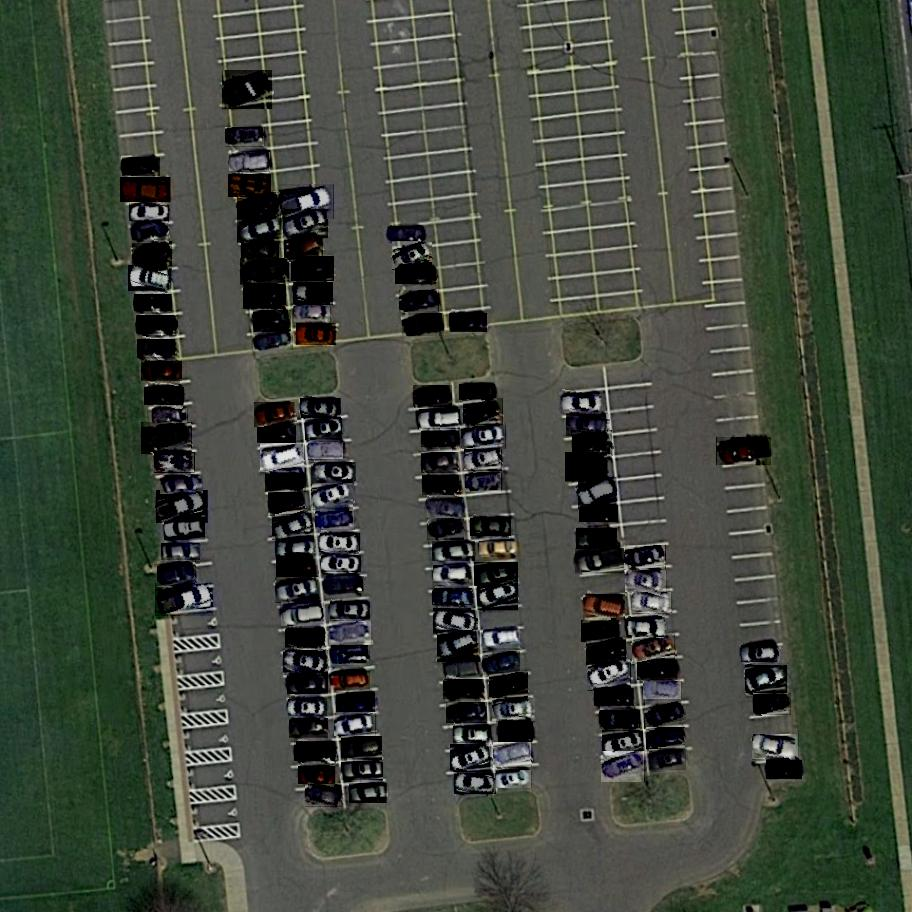small-vehicle: (155, 583, 215, 618), (223, 70, 273, 110), (280, 184, 334, 220), (156, 491, 208, 525), (141, 422, 194, 455), (717, 437, 772, 466), (587, 659, 632, 692), (437, 631, 482, 663), (284, 209, 330, 240), (240, 258, 290, 286), (237, 213, 282, 244), (602, 751, 647, 782), (260, 444, 305, 474), (745, 666, 790, 696), (463, 398, 505, 430), (477, 581, 520, 612), (120, 177, 171, 203), (566, 453, 610, 483), (753, 735, 800, 763), (272, 512, 314, 543), (450, 744, 493, 774), (632, 635, 676, 664), (575, 549, 624, 575), (578, 478, 619, 509), (644, 700, 687, 729), (312, 482, 354, 511), (586, 638, 628, 667), (276, 577, 321, 604), (434, 608, 479, 635), (276, 554, 319, 582), (237, 193, 280, 221), (392, 242, 432, 272), (572, 431, 612, 461), (283, 651, 329, 677), (461, 423, 507, 449), (284, 233, 325, 262), (132, 241, 173, 270), (243, 284, 287, 311), (602, 731, 644, 759), (292, 255, 335, 282), (129, 265, 173, 291), (489, 672, 528, 701), (582, 595, 625, 621), (280, 602, 326, 626), (474, 562, 520, 586), (624, 546, 668, 571), (157, 562, 199, 588), (255, 402, 297, 428), (494, 742, 534, 769), (268, 489, 306, 517), (330, 622, 374, 646), (265, 467, 307, 492), (334, 713, 377, 737), (402, 313, 445, 337), (341, 736, 382, 761), (493, 699, 535, 723), (130, 219, 170, 244), (311, 462, 356, 484), (228, 174, 271, 197), (446, 702, 487, 726), (647, 727, 686, 752), (482, 652, 521, 677), (566, 415, 610, 437), (399, 290, 441, 313), (413, 385, 453, 409), (305, 785, 343, 810), (575, 528, 618, 550), (330, 667, 371, 690), (254, 329, 295, 352), (293, 282, 334, 305), (626, 570, 667, 593), (632, 592, 673, 615), (432, 541, 476, 562), (444, 679, 484, 702), (154, 452, 195, 474), (253, 310, 292, 333), (753, 693, 792, 716), (650, 749, 689, 772), (464, 449, 503, 472), (455, 773, 497, 794), (160, 475, 204, 495), (582, 620, 622, 642), (306, 418, 344, 441), (138, 340, 179, 361), (296, 324, 337, 345), (241, 240, 280, 262), (294, 741, 336, 761), (337, 692, 377, 713), (419, 409, 461, 429), (422, 453, 460, 475), (319, 533, 360, 553), (300, 399, 341, 419), (137, 316, 178, 336), (289, 718, 328, 739), (332, 645, 371, 666), (483, 629, 522, 650), (423, 474, 462, 495), (428, 519, 465, 541), (226, 128, 266, 148), (142, 361, 182, 381), (229, 152, 271, 171), (349, 784, 388, 804), (643, 681, 682, 701), (165, 521, 206, 540), (288, 675, 329, 694), (285, 628, 326, 647), (599, 711, 640, 730), (637, 661, 678, 680), (626, 618, 667, 637), (471, 518, 512, 537), (341, 763, 384, 781), (276, 540, 316, 559), (315, 510, 355, 529), (257, 425, 297, 444), (595, 689, 635, 708), (123, 157, 162, 176), (450, 313, 488, 332), (465, 474, 503, 493), (426, 499, 464, 518), (145, 387, 185, 405), (497, 769, 533, 789), (560, 395, 602, 412), (299, 766, 336, 785), (767, 760, 804, 779), (288, 699, 326, 717), (454, 727, 492, 745), (498, 723, 534, 742), (324, 577, 364, 594), (579, 505, 618, 522), (162, 543, 200, 560), (129, 205, 169, 221), (433, 588, 472, 604), (308, 442, 344, 459), (433, 566, 469, 583), (323, 556, 361, 572), (295, 306, 330, 323), (135, 294, 172, 310), (330, 603, 369, 618), (396, 269, 435, 284), (742, 646, 777, 662), (388, 227, 425, 242), (422, 432, 459, 447), (480, 541, 517, 555), (153, 408, 187, 423), (460, 385, 495, 399)
